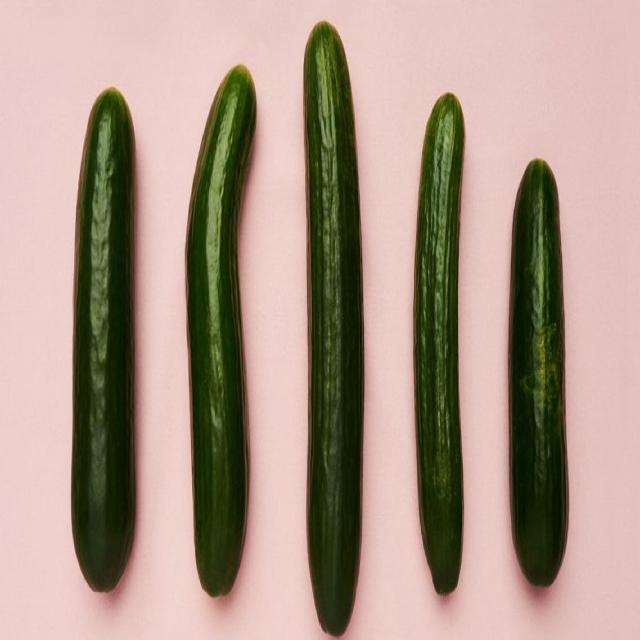cucumber: (300, 18, 369, 639), (181, 61, 258, 604), (69, 86, 137, 596), (410, 87, 467, 602), (508, 154, 570, 594)
